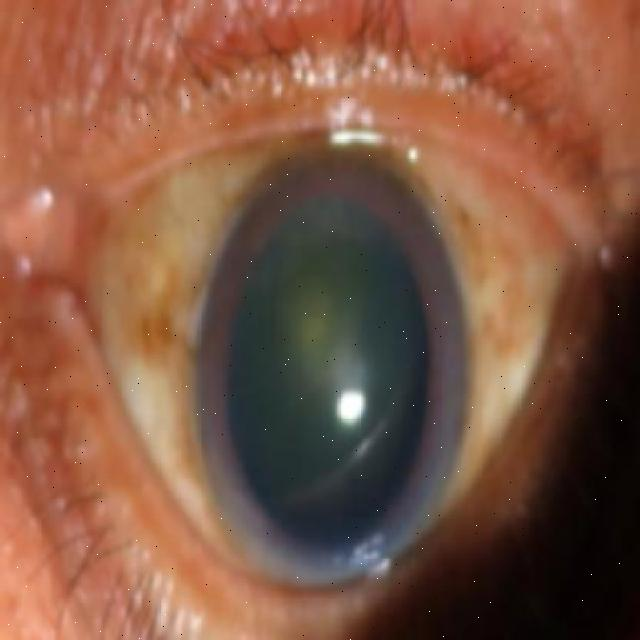Cataract: (189, 150, 464, 578)
